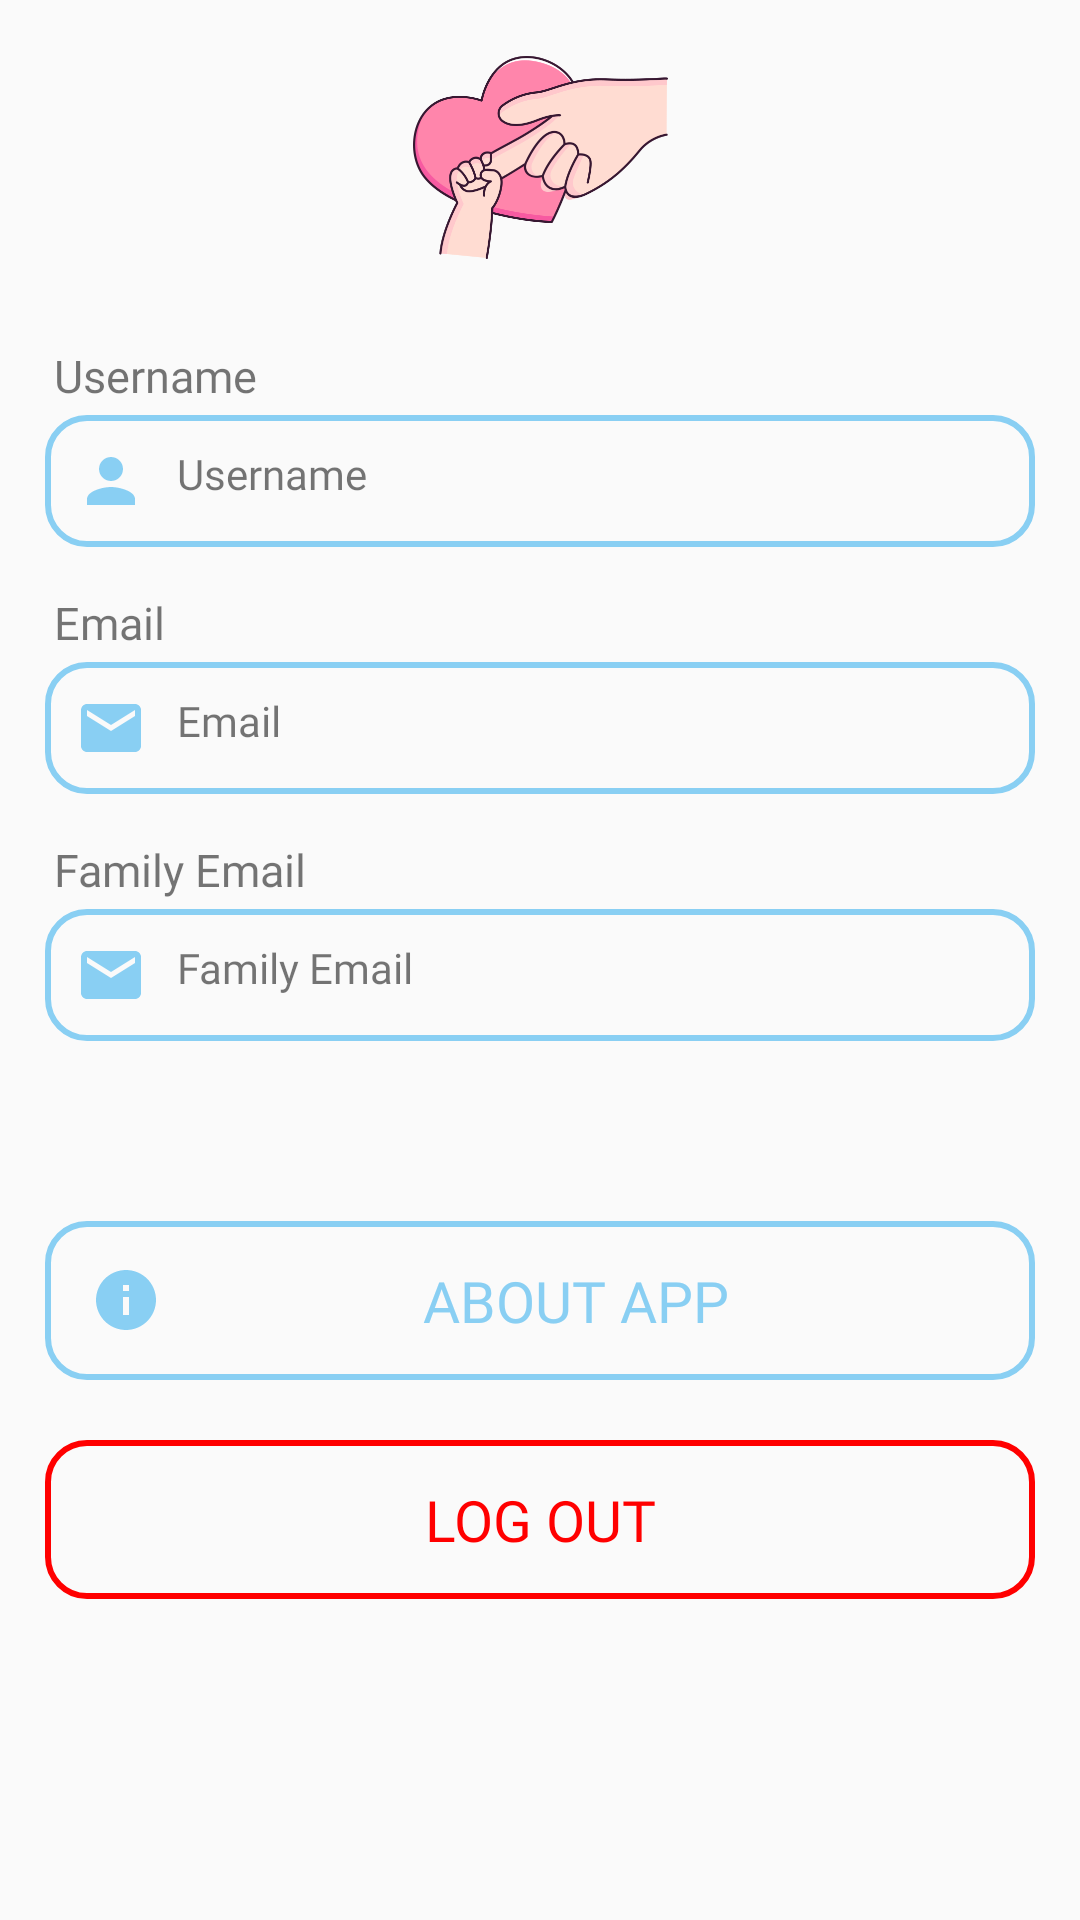

Icon click points for this 1080 x 1920 phone screenshot, format [x,y]:
lovemom: [540,157]
